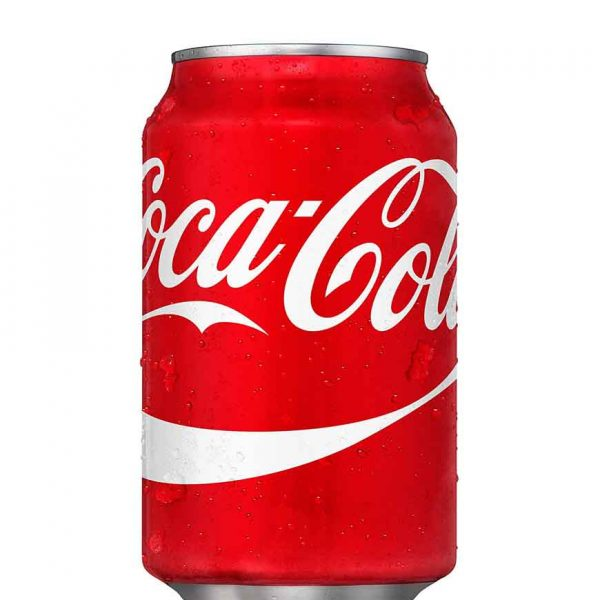coca_cola_can: (141, 44, 459, 600)
